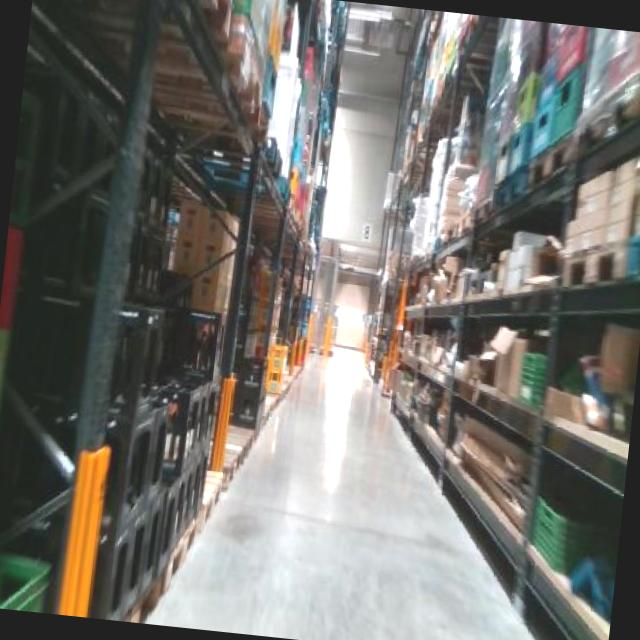pallet: (561, 220, 640, 295)
